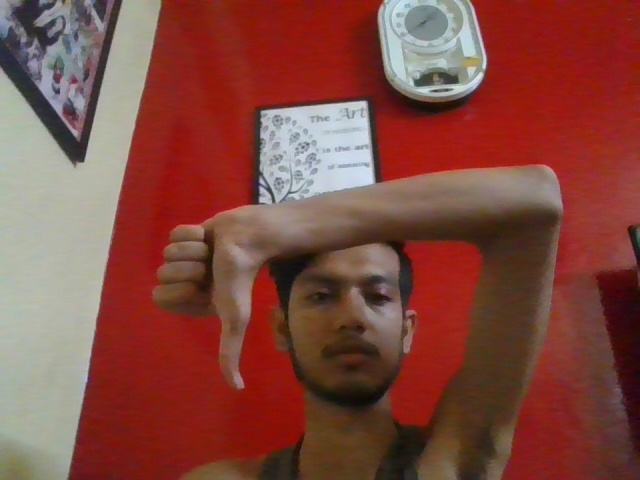ThumbsDown: (151, 209, 264, 389)
